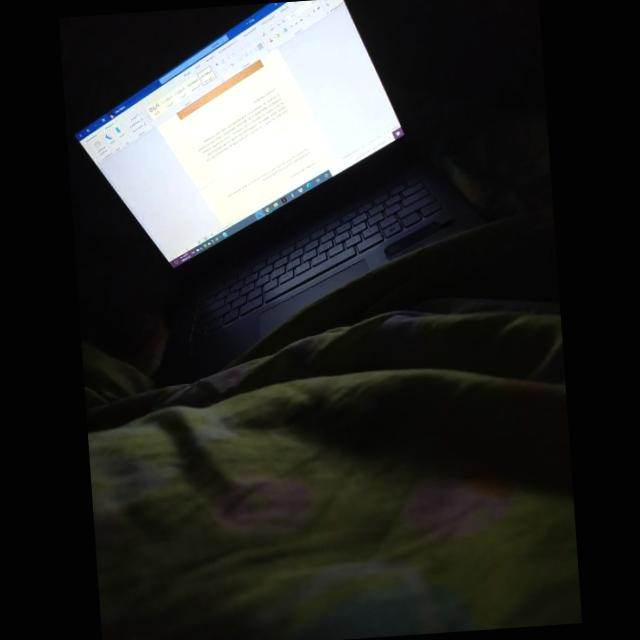laptop: (75, 0, 481, 382)
